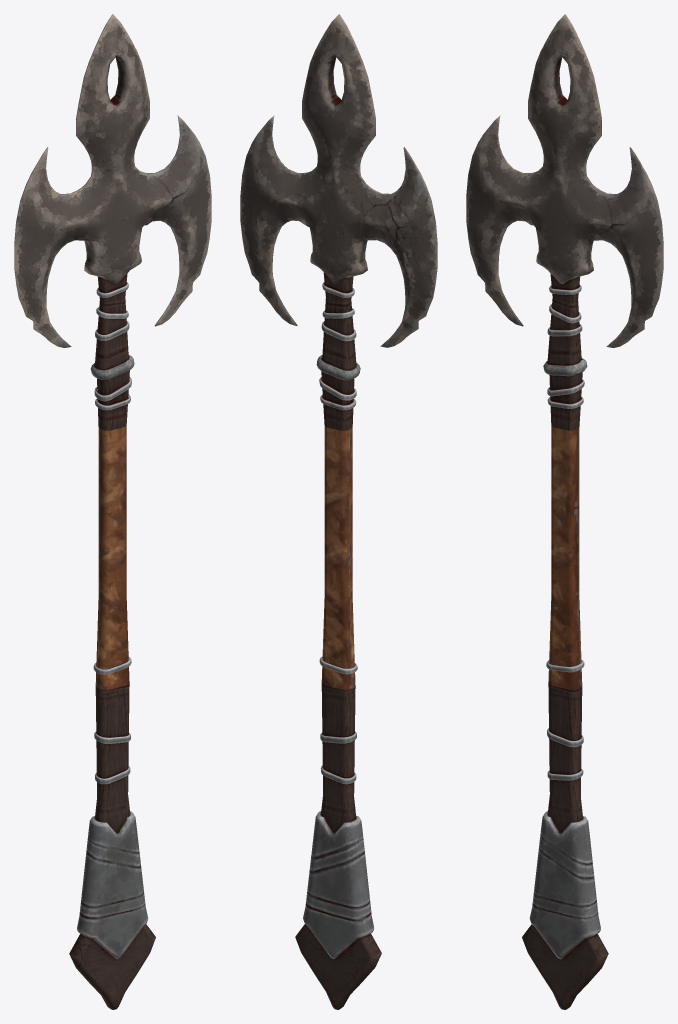
Rendered from Long_Ax_1.gltf.
3 views of the same model, side by side, from view 1: azimuth 30°, elevation 25°; view 2: azimuth 150°, elevation 25°; view 3: azimuth 330°, elevation 25° (orthographic).
Visible parts, largest first — view 1: Long_Ax_1; view 2: Long_Ax_1; view 3: Long_Ax_1.
Boxes of the visible parts, x1,y1,x2,y2 form: Long_Ax_1: [14, 14, 211, 1009]; Long_Ax_1: [240, 14, 437, 1009]; Long_Ax_1: [466, 14, 663, 1009].
Bounding box in the file's own units: 0.2801 × 1.35 × 0.0371.
1 material, 1 textured.
